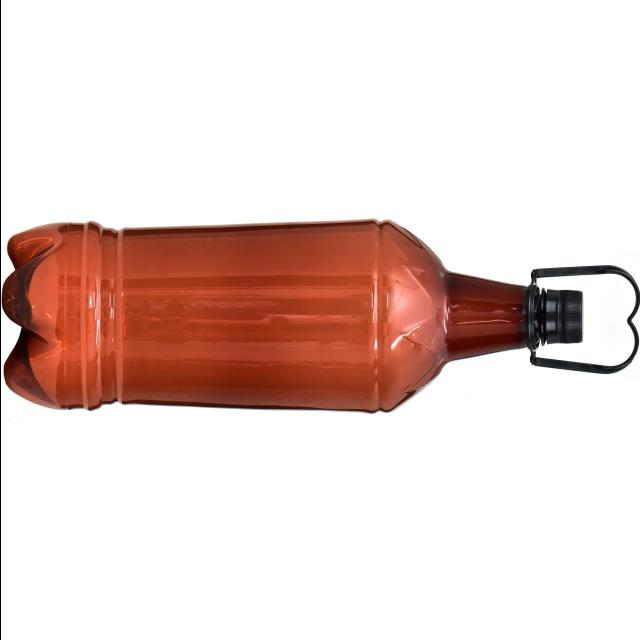bottle: (2, 220, 640, 412)
